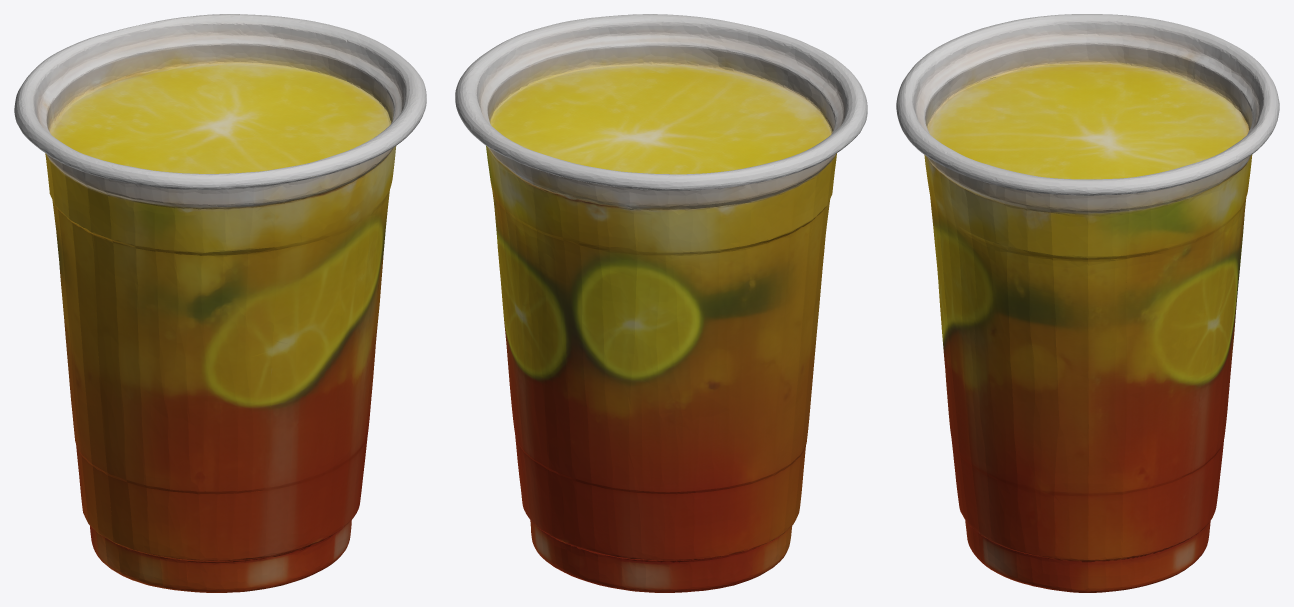
Rendered from lycotracotac.fbx.
3 views of the same model, side by side, from view 1: azimuth 30°, elevation 25°; view 2: azimuth 150°, elevation 25°; view 3: azimuth 270°, elevation 25° (orthographic).
Parts seen in each view (by area): view 1: world; view 2: world; view 3: world.
Boxes of the visible parts, left/top/right/bottom form: world: left=14, top=14, right=426, bottom=592; world: left=455, top=14, right=867, bottom=592; world: left=896, top=14, right=1279, bottom=592.
Size of the model in its own units: 0.8455 by 0.9989 by 0.7864.
Materials: 1 (1 with a texture image).
